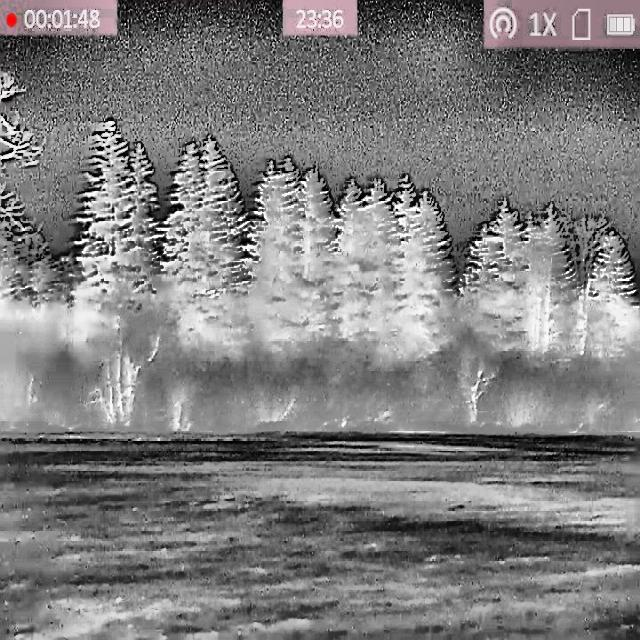drone: (206, 286, 222, 300)
